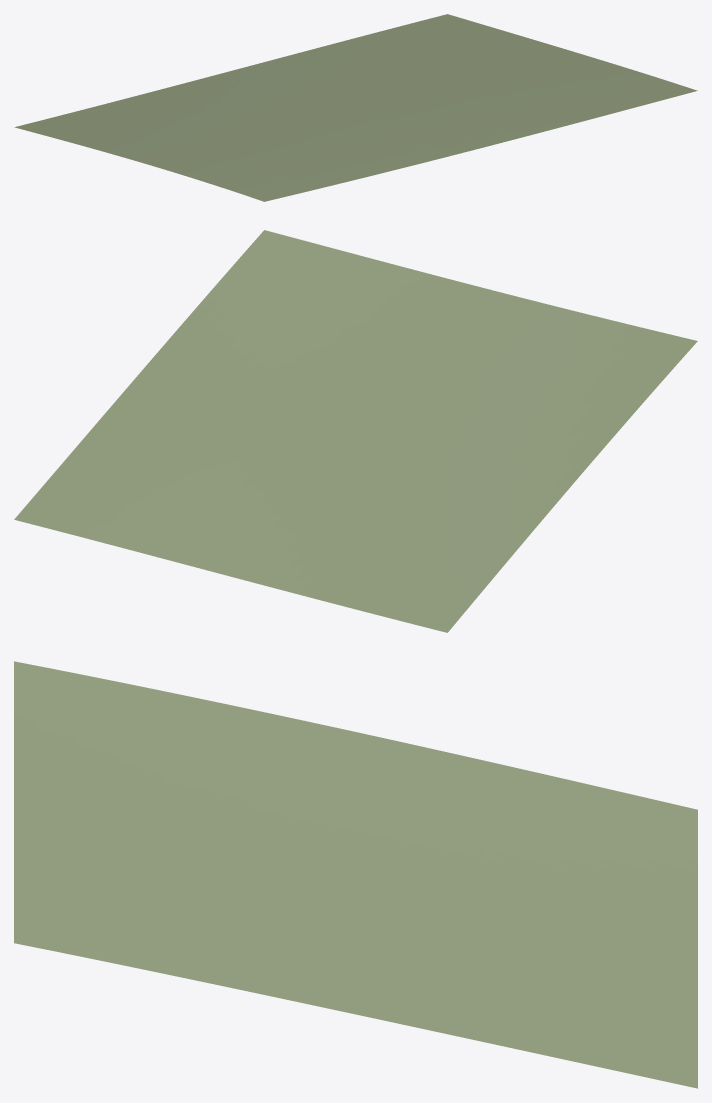
Rendered from expanse-28-5.glb.
3 views of the same model, one above another, from view 1: azimuth 30°, elevation 25°; view 2: azimuth 150°, elevation 25°; view 3: azimuth 270°, elevation 25° (orthographic). The views are drawn at different scales.
Visible parts, largest first — view 1: expanse-28-5; view 2: expanse-28-5; view 3: expanse-28-5.
Part boxes in pixels (x1,y1,x2,y2): expanse-28-5: [14, 14, 697, 201]; expanse-28-5: [14, 230, 697, 632]; expanse-28-5: [14, 661, 697, 1088].
Size of the model in its own units: 256 by 64.27 by 256.
